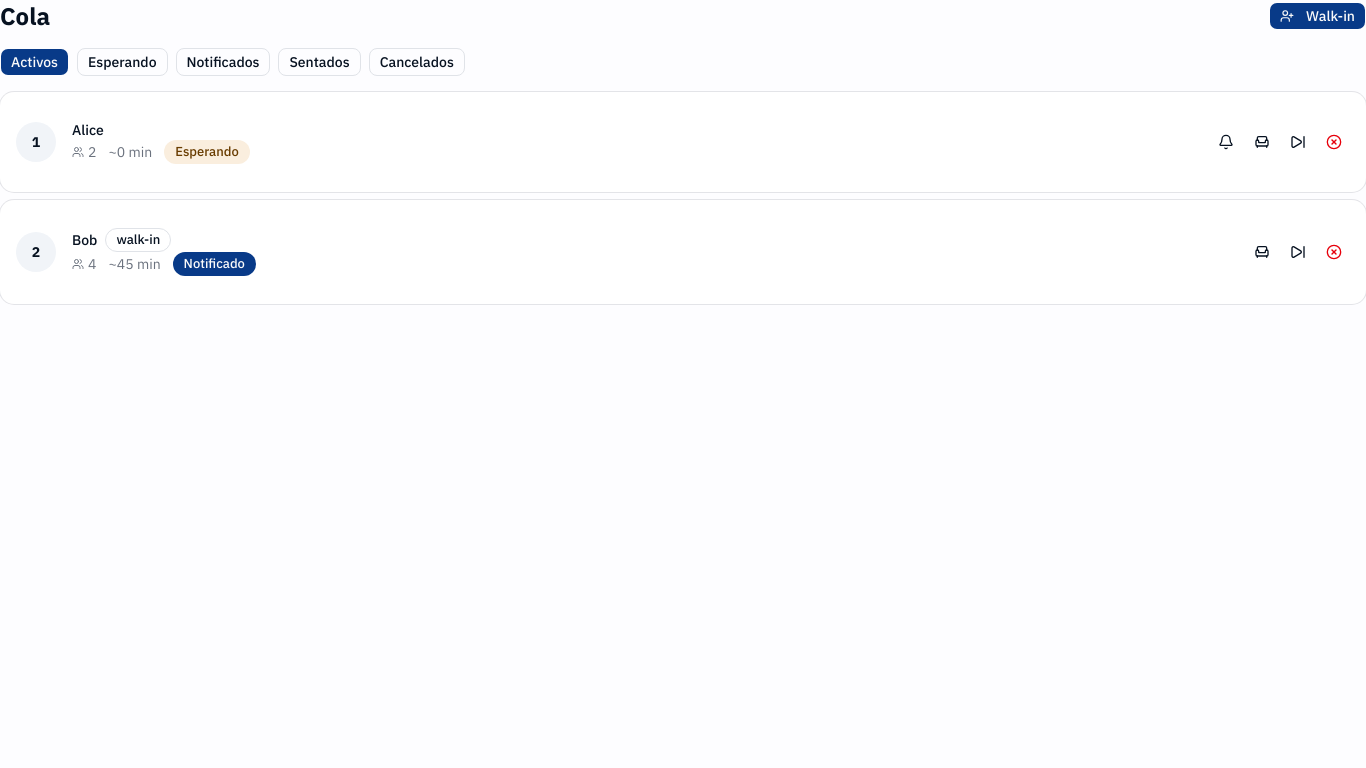
it: QueuePage › opens walk-in dialog
Click the button "Walk-in" at (1318, 16), box [1269,2,1365,30]
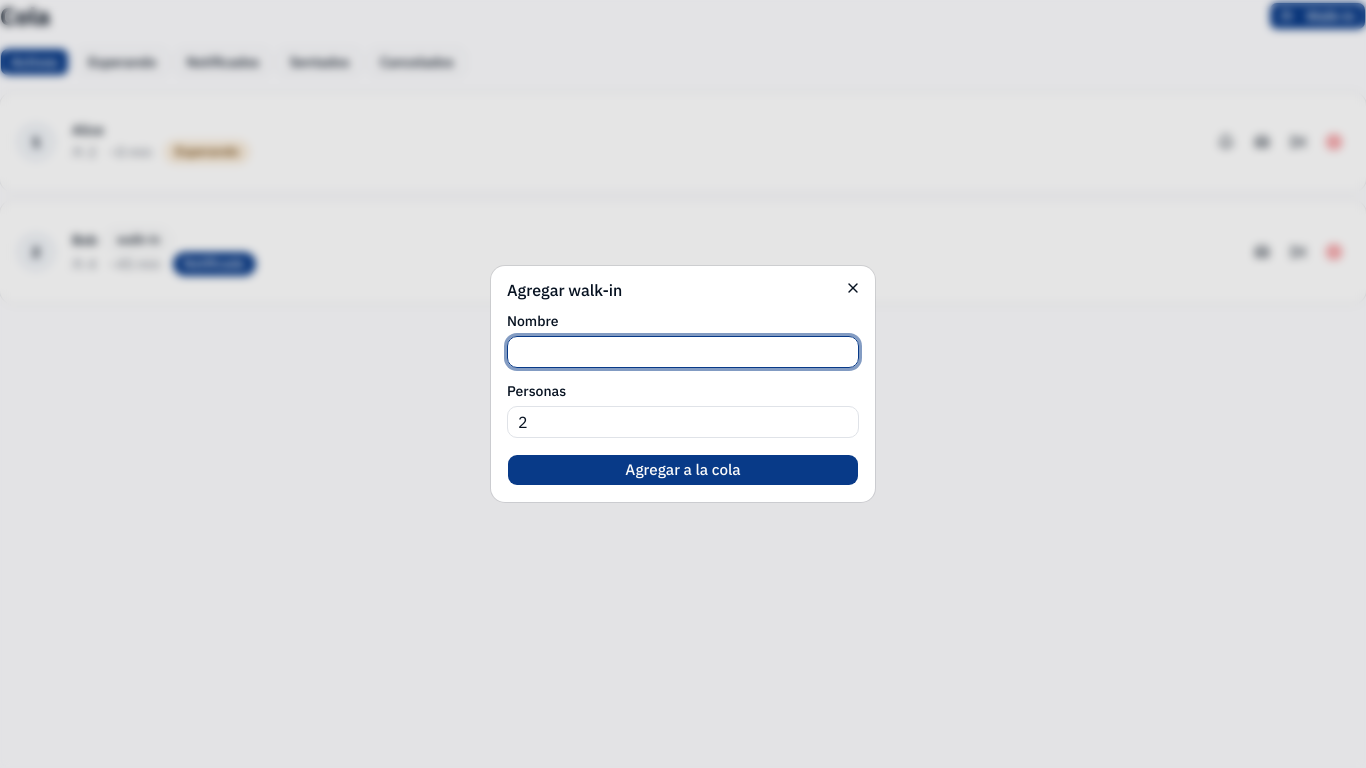
Result: the heading "Agregar walk-in" is shown at [507,280,622,300]
Result: the button "Agregar a la cola" is shown at [507,454,859,486]
